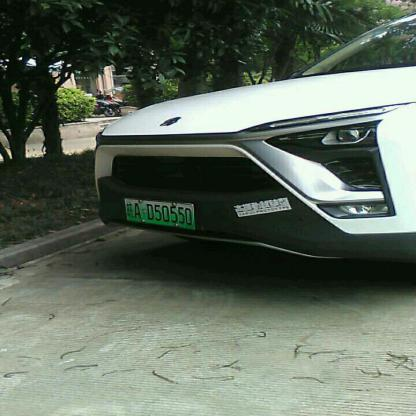lp: (126, 198, 195, 228)
